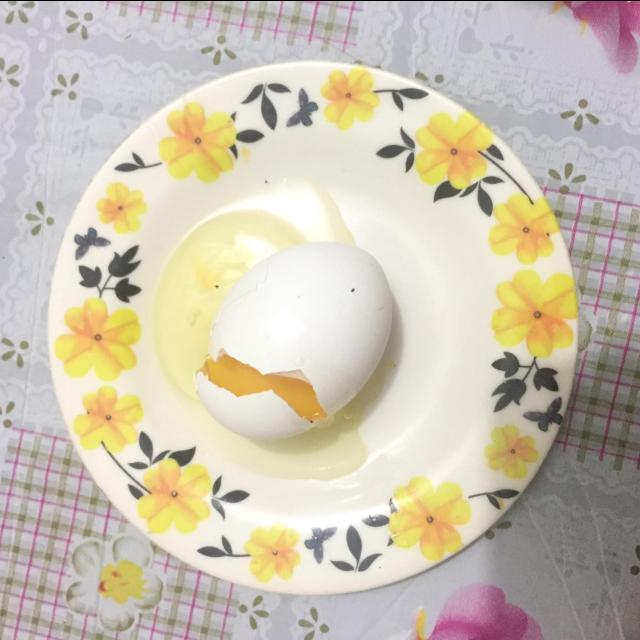egg shell: (192, 241, 395, 441)
